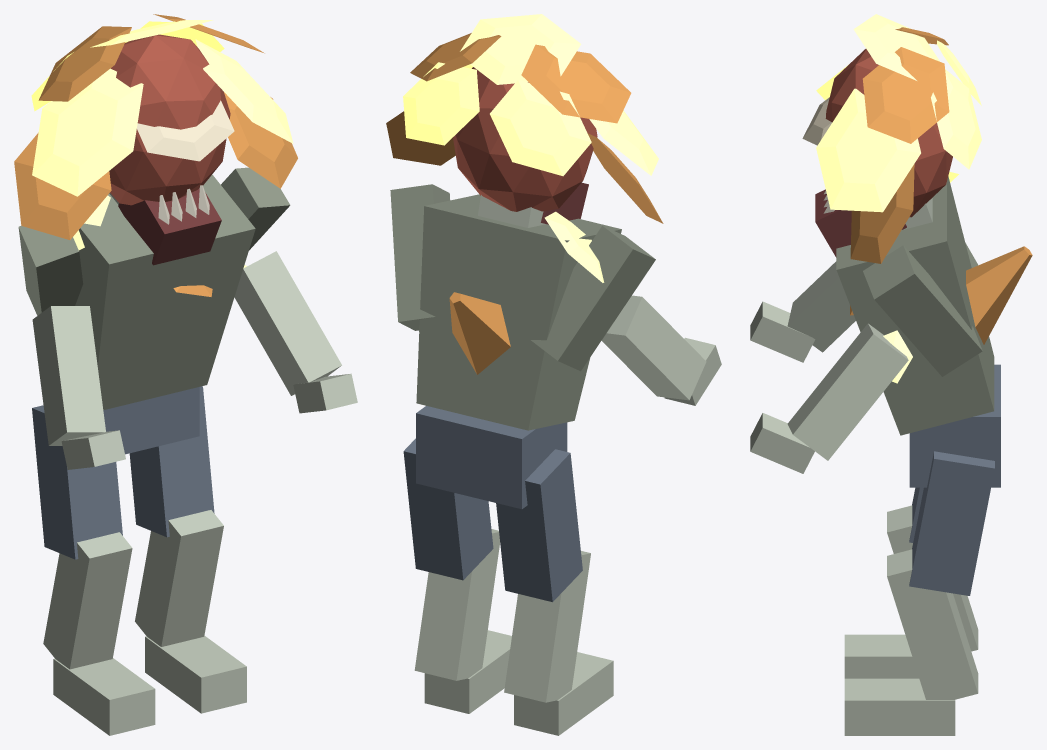
Rendered from spore_zombie.glb.
The picture shows the model from 3 angles, left to right: view 1: azimuth 30°, elevation 25°; view 2: azimuth 150°, elevation 25°; view 3: azimuth 270°, elevation 25°; orthographic projection. The views are drawn at different scales.
Visible parts, largest first — view 1: Zombie_Torso, Zombie_Bloom_Core, Zombie_Plate_3, Zombie_Shin_L, Zombie_Shin_R, Zombie_Forearm_L, Zombie_Forearm_R, Zombie_Thigh_L, Zombie_Thigh_R, Zombie_Foot_L, Zombie_Foot_R, Zombie_Plate_5 (+12 smaller); view 2: Zombie_Torso, Zombie_Pelvis, Zombie_Thigh_L, Zombie_UpperArm_L, Zombie_Bloom_Core, Zombie_Shin_L, Zombie_Shin_R, Zombie_Thigh_R, Zombie_Forearm_L, Zombie_Plate_8, Zombie_Plate_1, Zombie_Plate_0 (+13 smaller); view 3: Zombie_Torso, Zombie_Thigh_R, Zombie_Plate_4, Zombie_Shin_R, Zombie_Forearm_R, Zombie_UpperArm_R, Zombie_Plate_2, Zombie_Foot_R, Zombie_Pelvis, Zombie_Bloom_Core, Zombie_Forearm_L, Zombie_Back_Spike (+11 smaller).
Boxes of the visible parts, x1=… form: Zombie_Torso: x1=75, y1=174, x2=255, y2=410; Zombie_Bloom_Core: x1=109, y1=34, x2=230, y2=205; Zombie_Plate_3: x1=32, y1=68, x2=143, y2=196; Zombie_Shin_L: x1=43, y1=532, x2=132, y2=669; Zombie_Shin_R: x1=135, y1=510, x2=223, y2=646; Zombie_Forearm_L: x1=32, y1=306, x2=105, y2=445; Zombie_Forearm_R: x1=234, y1=251, x2=341, y2=395; Zombie_Thigh_L: x1=32, y1=405, x2=122, y2=559; Zombie_Thigh_R: x1=129, y1=386, x2=214, y2=537; Zombie_Foot_L: x1=53, y1=658, x2=155, y2=735; Zombie_Foot_R: x1=145, y1=635, x2=246, y2=713; Zombie_Plate_5: x1=14, y1=132, x2=111, y2=239; Zombie_Torso: x1=416, y1=194, x2=621, y2=430; Zombie_Pelvis: x1=416, y1=406, x2=567, y2=509; Zombie_Thigh_L: x1=496, y1=449, x2=582, y2=602; Zombie_UpperArm_L: x1=531, y1=225, x2=655, y2=371; Zombie_Bloom_Core: x1=453, y1=67, x2=597, y2=211; Zombie_Shin_L: x1=504, y1=551, x2=590, y2=702; Zombie_Shin_R: x1=414, y1=529, x2=500, y2=680; Zombie_Thigh_R: x1=403, y1=438, x2=493, y2=580; Zombie_Forearm_L: x1=601, y1=295, x2=706, y2=400; Zombie_Plate_8: x1=490, y1=80, x2=591, y2=176; Zombie_Plate_1: x1=521, y1=44, x2=631, y2=123; Zombie_Plate_0: x1=460, y1=14, x2=581, y2=84; Zombie_Torso: x1=836, y1=176, x2=994, y2=435; Zombie_Thigh_R: x1=909, y1=451, x2=994, y2=595; Zombie_Plate_4: x1=816, y1=88, x2=920, y2=212; Zombie_Shin_R: x1=887, y1=549, x2=978, y2=699; Zombie_Forearm_R: x1=787, y1=323, x2=908, y2=460; Zombie_UpperArm_R: x1=863, y1=245, x2=982, y2=376; Zombie_Plate_2: x1=862, y1=47, x2=949, y2=143; Zombie_Foot_R: x1=844, y1=678, x2=955, y2=735; Zombie_Pelvis: x1=909, y1=364, x2=1000, y2=487; Zombie_Bloom_Core: x1=825, y1=49, x2=952, y2=217; Zombie_Forearm_L: x1=787, y1=261, x2=855, y2=352; Zombie_Back_Spike: x1=966, y1=246, x2=1032, y2=344.
Bounding box in the file's own units: 0.968 × 2.29 × 0.8685.
